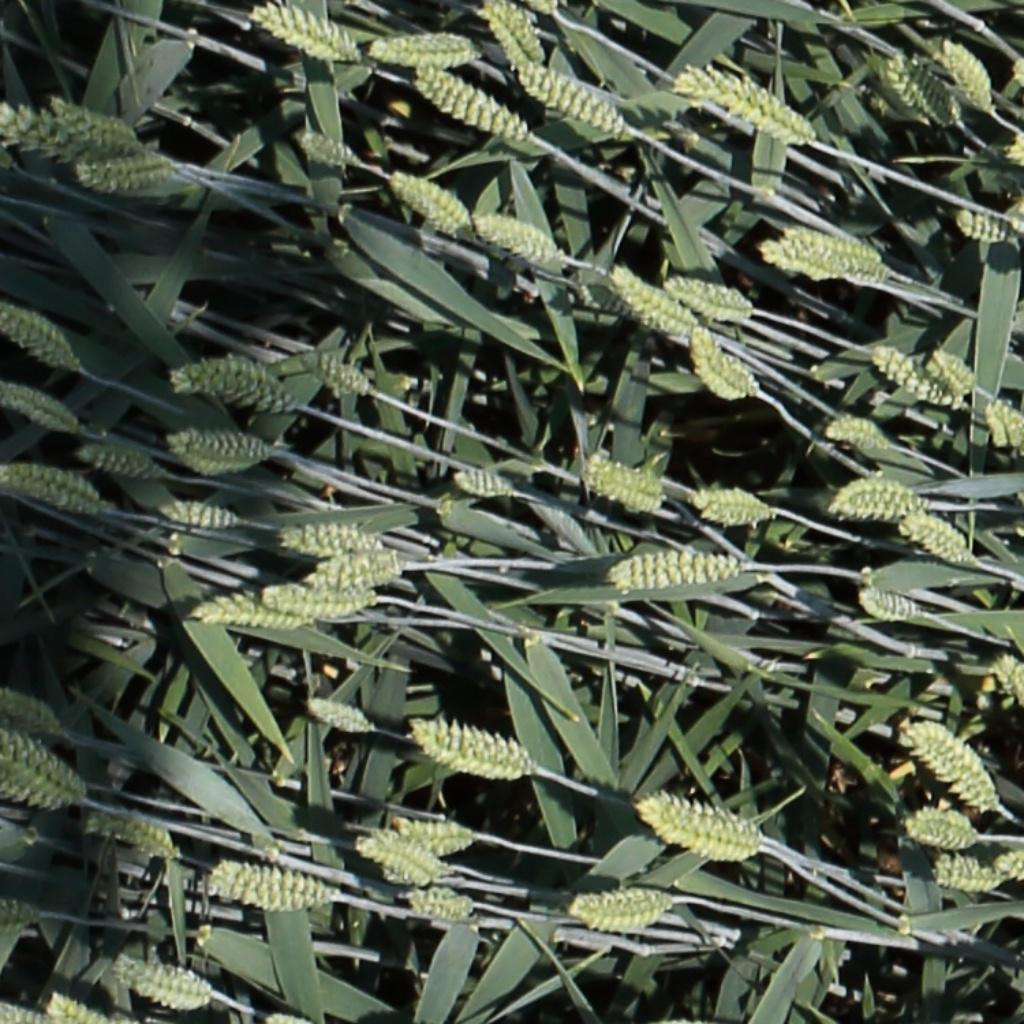0-0: (635, 786, 772, 863), (678, 65, 812, 143), (0, 99, 149, 167), (166, 344, 300, 413), (409, 64, 529, 141), (516, 62, 628, 137), (410, 713, 530, 782), (907, 724, 998, 811), (0, 731, 89, 812), (207, 852, 329, 910), (603, 548, 745, 592), (579, 445, 670, 513), (248, 4, 354, 62), (868, 345, 961, 410), (686, 322, 759, 401), (109, 957, 215, 1010), (607, 266, 692, 330), (169, 427, 273, 479), (565, 885, 680, 932), (2, 466, 112, 515), (933, 32, 996, 117), (385, 169, 468, 232), (888, 51, 958, 125), (484, 0, 553, 74), (195, 592, 319, 631), (355, 836, 460, 882), (827, 472, 934, 517), (1, 304, 75, 368), (358, 32, 480, 70), (472, 212, 561, 264), (45, 94, 133, 146), (684, 481, 779, 528), (81, 817, 178, 863), (663, 275, 755, 322), (786, 225, 888, 265), (260, 587, 376, 621), (307, 350, 383, 401), (760, 241, 856, 280), (388, 814, 479, 855), (899, 516, 974, 565), (281, 519, 389, 552), (901, 804, 983, 847), (1, 385, 79, 430), (926, 848, 1004, 890), (294, 126, 365, 172), (303, 697, 380, 738), (309, 553, 399, 588), (399, 884, 480, 921), (0, 690, 62, 737), (73, 447, 161, 477), (157, 495, 237, 528), (927, 346, 978, 394), (448, 467, 520, 501), (857, 585, 924, 621), (984, 394, 1024, 451), (951, 208, 1015, 241), (991, 653, 1024, 714), (823, 421, 888, 450), (46, 995, 109, 1024), (991, 857, 1024, 891), (1, 1003, 50, 1024), (0, 905, 40, 924), (1013, 60, 1024, 101), (1007, 143, 1024, 165)
